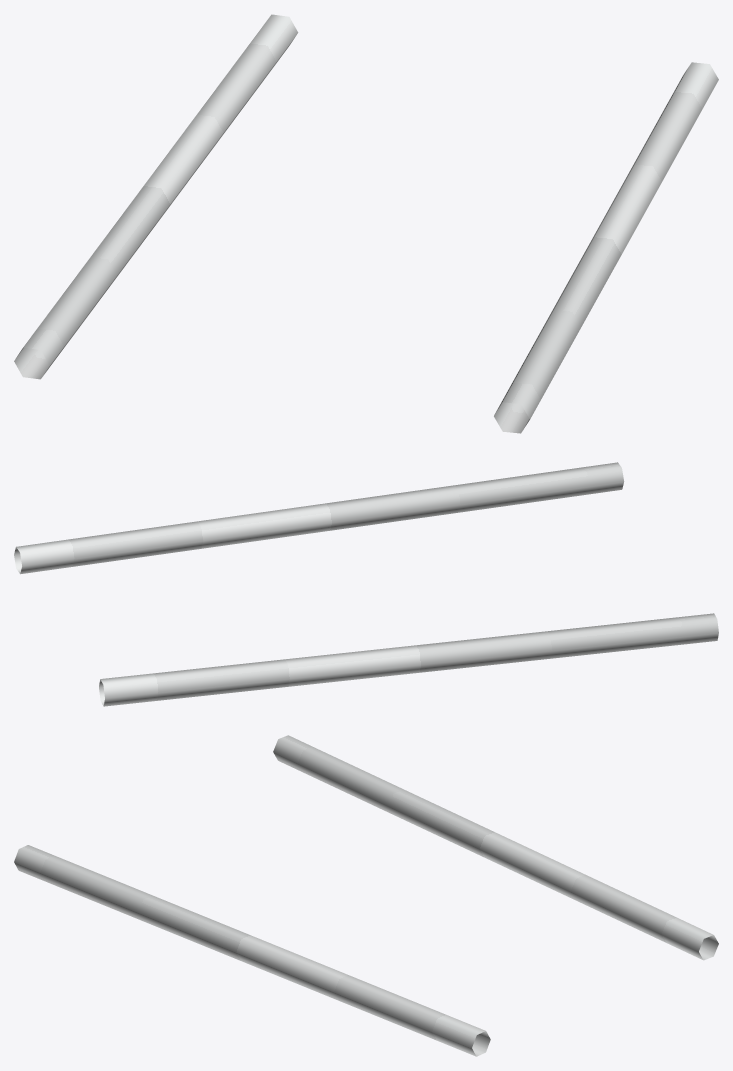
The model's file is nycsignalarm_diagonal12_c13.obj.
3 renders of one model, top to bottom at view 1: azimuth 30°, elevation 25°; view 2: azimuth 150°, elevation 25°; view 3: azimuth 270°, elevation 25°, orthographic. The views are drawn at different scales.
Visible parts, largest first — view 1: nycsignalarm_diagonal12_c13; view 2: nycsignalarm_diagonal12_c13; view 3: nycsignalarm_diagonal12_c13.
Part boxes in pixels (x1=…): nycsignalarm_diagonal12_c13: x1=14, y1=14, x2=718, y2=433; nycsignalarm_diagonal12_c13: x1=14, y1=462, x2=718, y2=706; nycsignalarm_diagonal12_c13: x1=14, y1=735, x2=718, y2=1056.
Size of the model in its own units: 1.6 by 0.0696 by 1.6.
